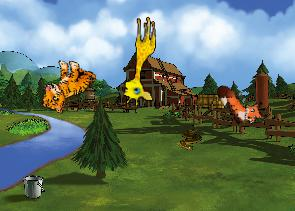fox: (213, 72, 270, 134)
giraffe: (122, 15, 156, 106)
tiger: (38, 54, 98, 120)
